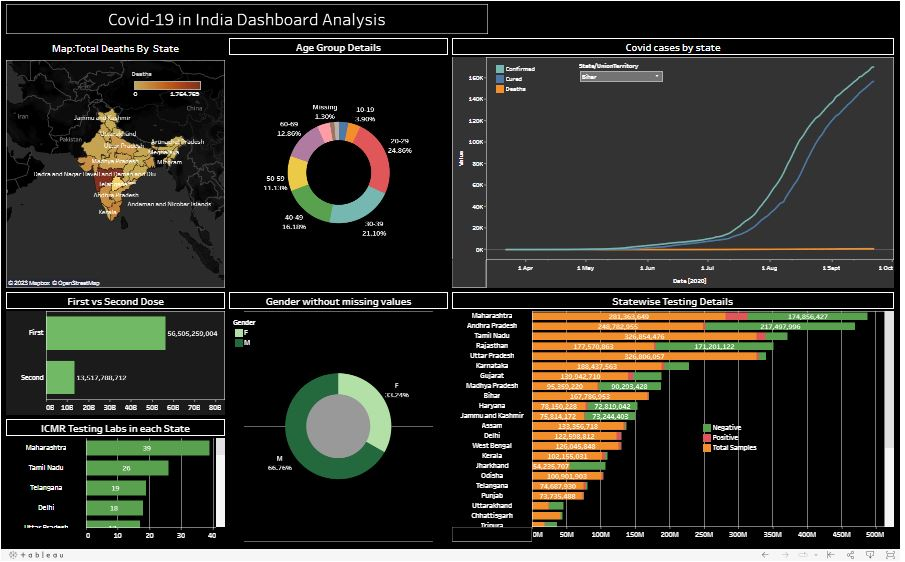

The page's visual inventory and layout, read from the dashboard file:
{"tool":"tableau","page":{"name":"Covid in India Analysis","canvas":[1800,1100],"ordinal":0},"visuals":[{"type":"worksheet","title":"Title","mark":"Automatic","box":[8,8,1784,68]},{"type":"worksheet","title":"Map:Total Deaths By State","mark":"Automatic","box":[8,76,445.9,508]},{"type":"worksheet","title":"Age Group Details","mark":"Pie","rows":["Calculation_343680964278681602","Calculation_343680964278681602"],"box":[453.9,76,446.1,508]},{"type":"worksheet","title":"Covid cases by state","mark":"Automatic","cols":["Date"],"box":[900,76,892,508]},{"type":"filter","title":"Covid cases by state","param":"[federated.1imhzte195zj08161g8f60c55re1].[none:State/UnionTerritory:nk]","box":[1158,126,168,52]},{"type":"legend","title":"Covid cases by state","param":"[federated.1imhzte195zj08161g8f60c55re1].[:Measure Names]","box":[989,131,140,60]},{"type":"legend","title":"Map:Total Deaths By State","param":"[federated.1imhzte195zj08161g8f60c55re1].[sum:Deaths:qk]","box":[263,141,140,76]},{"type":"worksheet","title":"First vs Second Dose","mark":"Automatic","box":[8,584,445.9,254]},{"type":"worksheet","title":"Gender without missing values","mark":"Pie","rows":["Calculation_343680964284383236","Calculation_343680964284383236"],"box":[453.9,584,446.1,508]},{"type":"worksheet","title":"Statewise Testing Details","mark":"Automatic","rows":["State"],"box":[900,584,892,508]},{"type":"legend","title":"Gender without missing values","param":"[federated.1h3xw5o1jyc7661dyc3vs0xxqb36].[none:gender:nk]","box":[466,639,180,65]},{"type":"worksheet","title":"ICMR Testing Labs in each State","mark":"Automatic","rows":["state"],"cols":["lab"],"box":[8,838,445.9,254]},{"type":"legend","title":"Statewise Testing Details","param":"[federated.0o7kcqw0og6u7w1f0cmh80r5fwck].[:Measure Names]","box":[1403,849,140,60]}]}

Visuals, with their boxes in screenshot pixels (x1, y1, x2, y2):
"Title" worksheet: x1=4, y1=4, x2=889, y2=38
"Map:Total Deaths By State" worksheet: x1=4, y1=38, x2=225, y2=290
"Age Group Details" worksheet (Pie marks): x1=225, y1=38, x2=446, y2=290
"Covid cases by state" worksheet: x1=446, y1=38, x2=889, y2=290
"Covid cases by state" filter: x1=574, y1=62, x2=657, y2=88
"Covid cases by state" legend: x1=490, y1=65, x2=560, y2=95
"Map:Total Deaths By State" legend: x1=130, y1=70, x2=200, y2=108
"First vs Second Dose" worksheet: x1=4, y1=290, x2=225, y2=416
"Gender without missing values" worksheet (Pie marks): x1=225, y1=290, x2=446, y2=541
"Statewise Testing Details" worksheet: x1=446, y1=290, x2=889, y2=541
"Gender without missing values" legend: x1=231, y1=317, x2=320, y2=349
"ICMR Testing Labs in each State" worksheet: x1=4, y1=416, x2=225, y2=541
"Statewise Testing Details" legend: x1=696, y1=421, x2=765, y2=451
